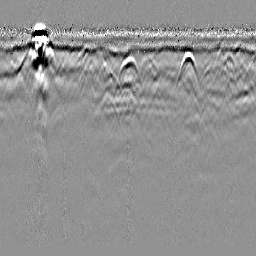cavity: (115, 55, 142, 93)
